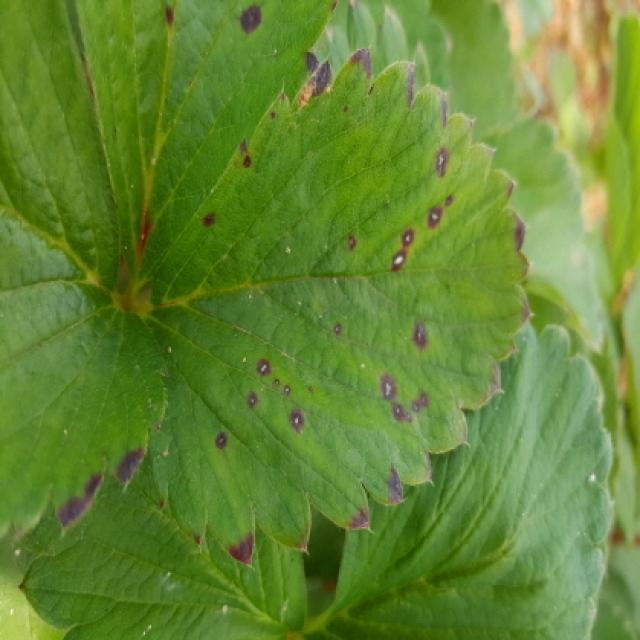Leaf Spot: (135, 46, 535, 569), (75, 0, 339, 292)
